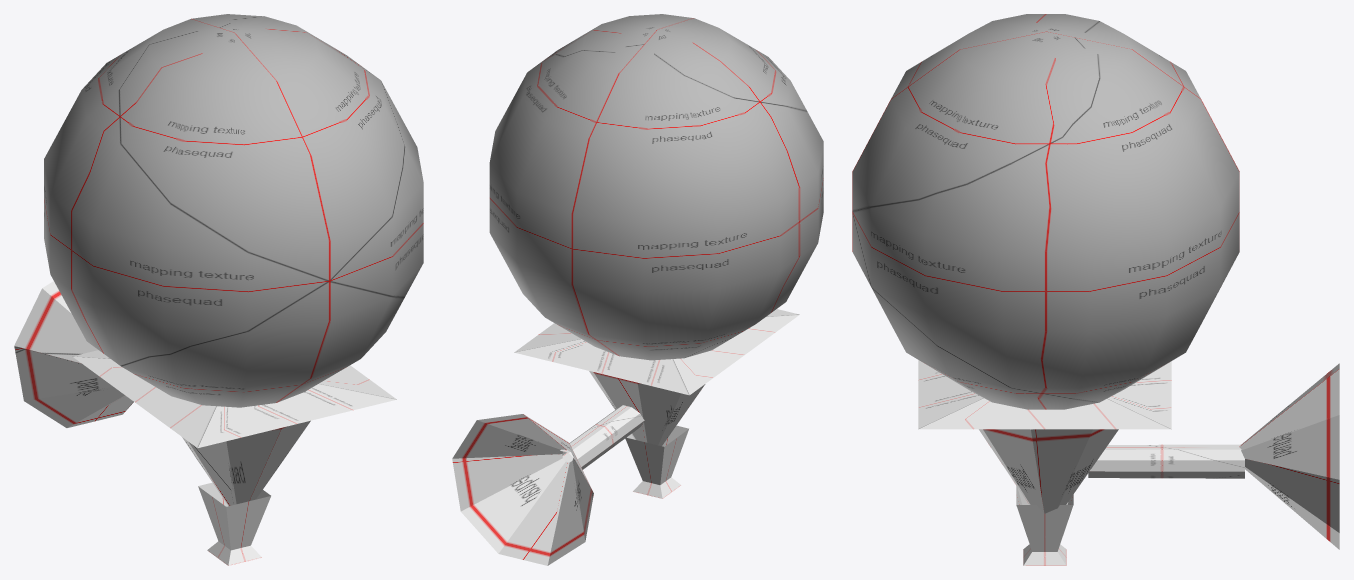
Rendered from d_lamppost_1x_susp_b.FBX.
3 renders of one model, left to right at view 1: azimuth 30°, elevation 25°; view 2: azimuth 150°, elevation 25°; view 3: azimuth 270°, elevation 25°, orthographic. The views are drawn at different scales.
Parts seen in each view (by area): view 1: d_lamppost_1x_susp_b; view 2: d_lamppost_1x_susp_b; view 3: d_lamppost_1x_susp_b.
Boxes of the visible parts, x1,y1,x2,y2 form: d_lamppost_1x_susp_b: (14, 14, 423, 565); d_lamppost_1x_susp_b: (452, 14, 823, 565); d_lamppost_1x_susp_b: (852, 14, 1339, 565).
Bounding box in the file's own units: 1.4 × 1.81 × 2.15.
